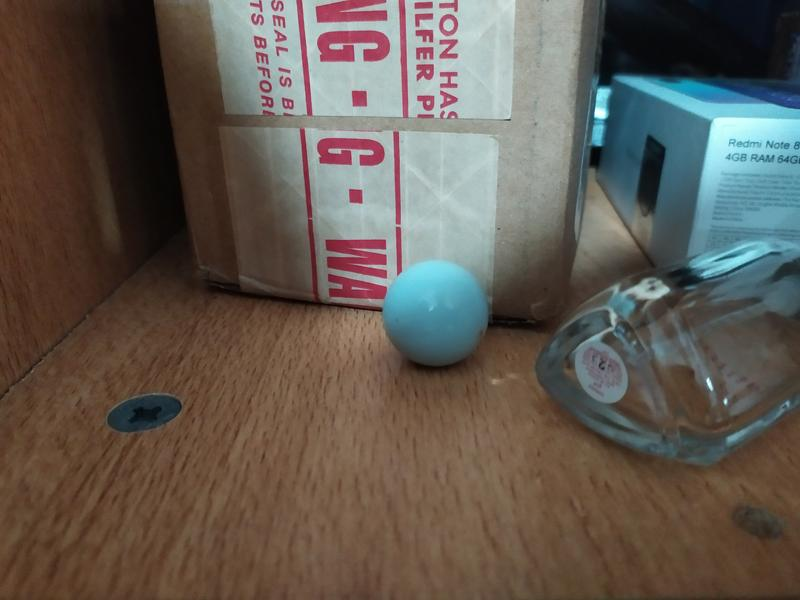Warning: (379, 256, 494, 370)
